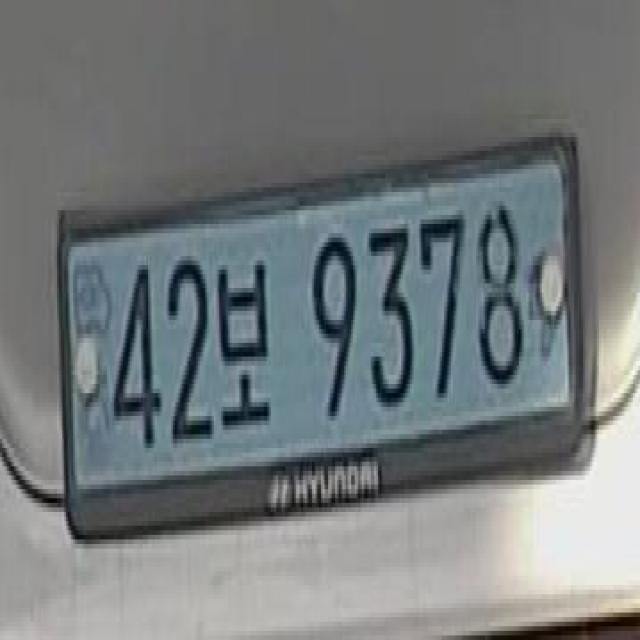EV_plate: (52, 135, 588, 541)
